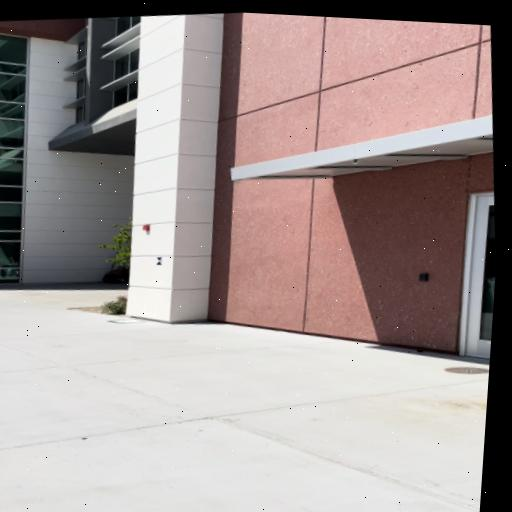target6: (156, 257, 163, 265)
